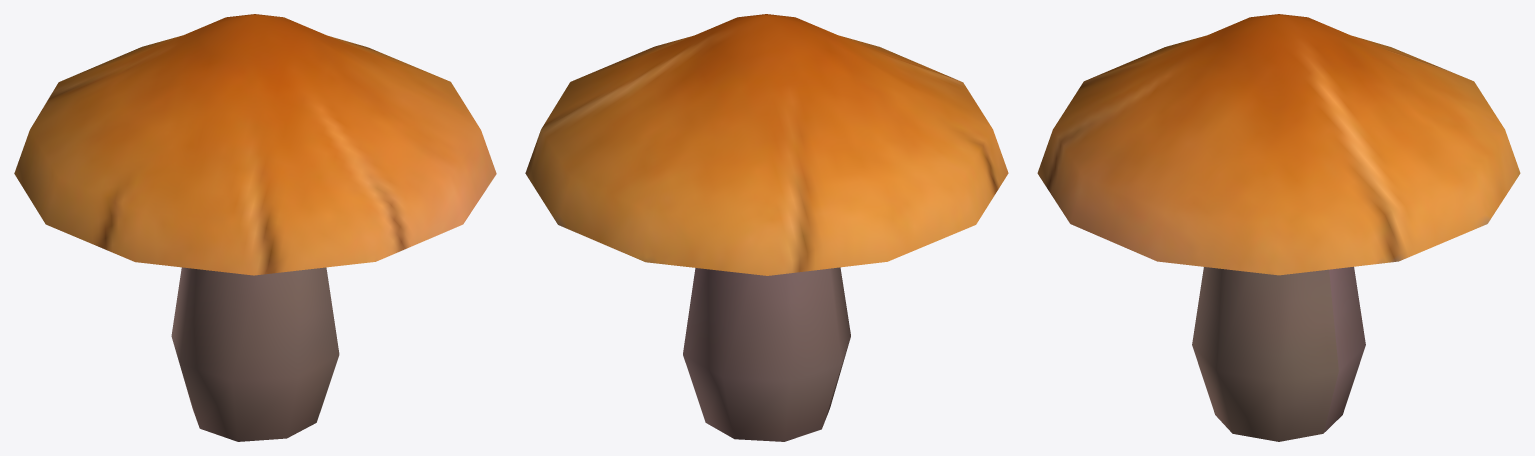
File: Yegesl_mg02.FBX
3 views of the same model, side by side, from view 1: azimuth 30°, elevation 25°; view 2: azimuth 150°, elevation 25°; view 3: azimuth 270°, elevation 25° (orthographic).
Visible parts, largest first — view 1: Yegesl_mg02; view 2: Yegesl_mg02; view 3: Yegesl_mg02.
Part boxes in pixels (x1=…): Yegesl_mg02: x1=14, y1=14, x2=496, y2=441; Yegesl_mg02: x1=525, y1=14, x2=1008, y2=441; Yegesl_mg02: x1=1037, y1=14, x2=1520, y2=441.
Size of the model in its own units: 51.48 by 51.48 by 46.95.
